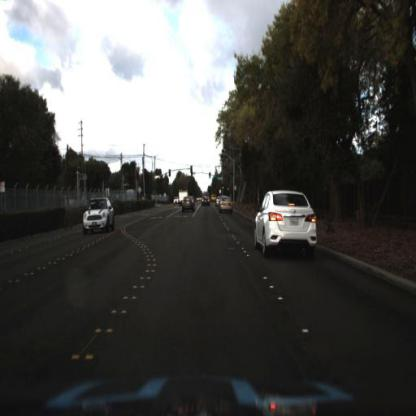car: (251, 183, 324, 269), (78, 193, 120, 240), (180, 195, 198, 218), (218, 196, 235, 214), (199, 195, 213, 211)
truck: (177, 187, 190, 205)
